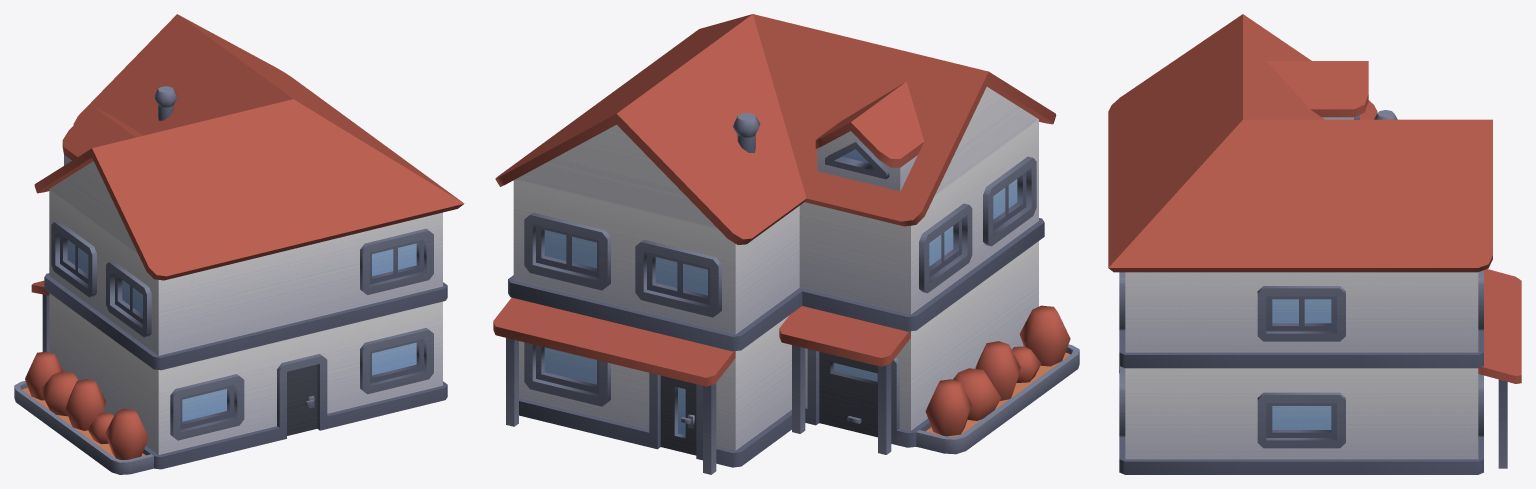
The model's file is house-f-red.glb.
3 renders of one model, left to right at view 1: azimuth 30°, elevation 25°; view 2: azimuth 150°, elevation 25°; view 3: azimuth 270°, elevation 25°, orthographic. The views are drawn at different scales.
Parts seen in each view (by area): view 1: building-type-f; view 2: building-type-f; view 3: building-type-f.
Part boxes in pixels (x1,y1,x2,y2): building-type-f: (14,14,464,474); building-type-f: (493,14,1079,474); building-type-f: (1108,14,1521,474).
Size of the model in its own units: 1.43 by 1.14 by 1.41.
2 materials, 1 textured.
